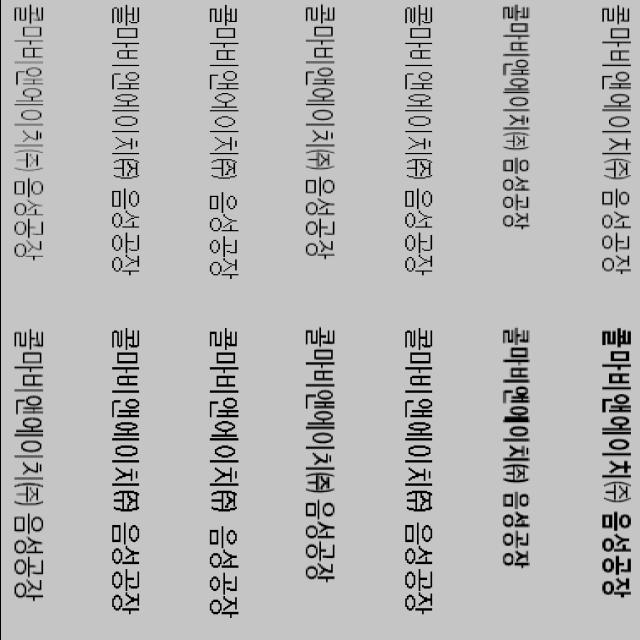bold: (0, 319, 58, 606), (392, 322, 446, 620), (101, 326, 155, 616), (196, 326, 248, 622), (590, 322, 640, 602), (294, 322, 345, 590), (493, 322, 540, 572)
normal: (392, 4, 444, 278), (0, 2, 52, 264), (198, 4, 242, 282), (102, 5, 147, 276), (294, 4, 340, 262), (592, 2, 634, 280), (490, 3, 538, 231)
